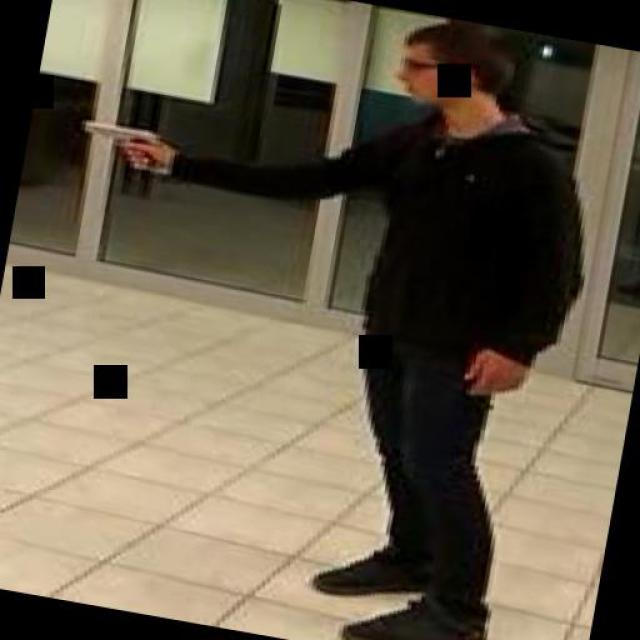gun: (71, 114, 175, 175)
